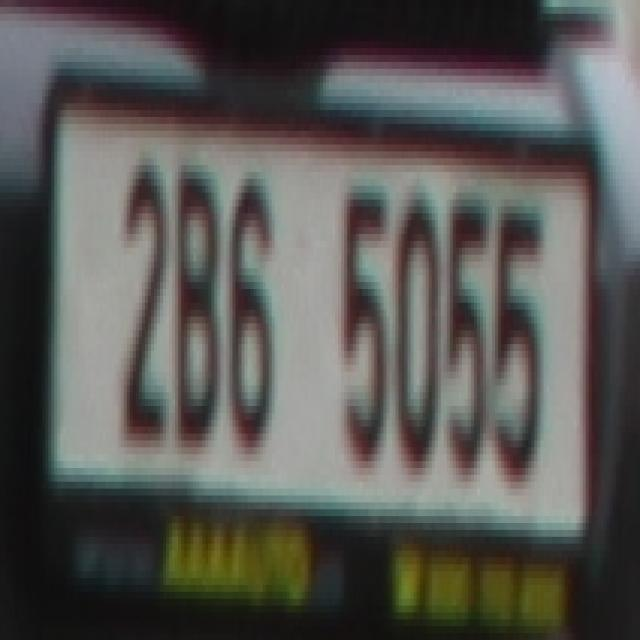0: (389, 179, 444, 475)
2: (121, 152, 166, 440)
5: (492, 193, 546, 482), (338, 172, 390, 461), (444, 193, 489, 482)
6: (223, 179, 278, 454)
B: (172, 158, 220, 454)
